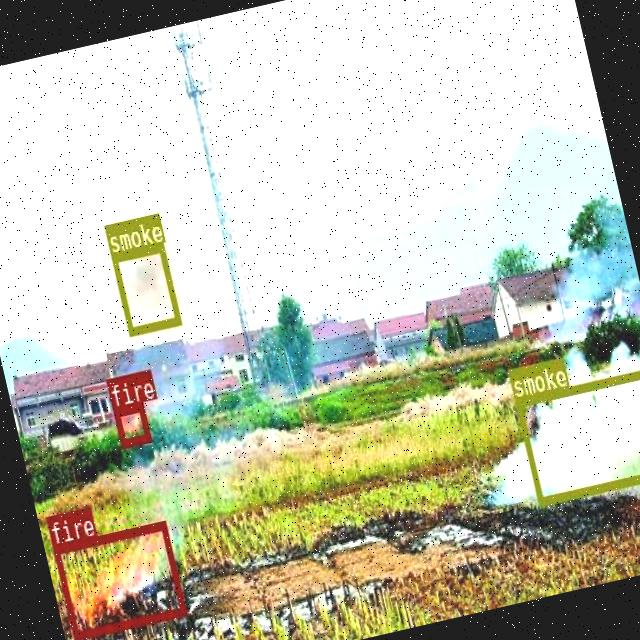fire: (52, 520, 185, 639), (112, 401, 150, 447)
smoke: (513, 368, 640, 504), (109, 240, 180, 334)
